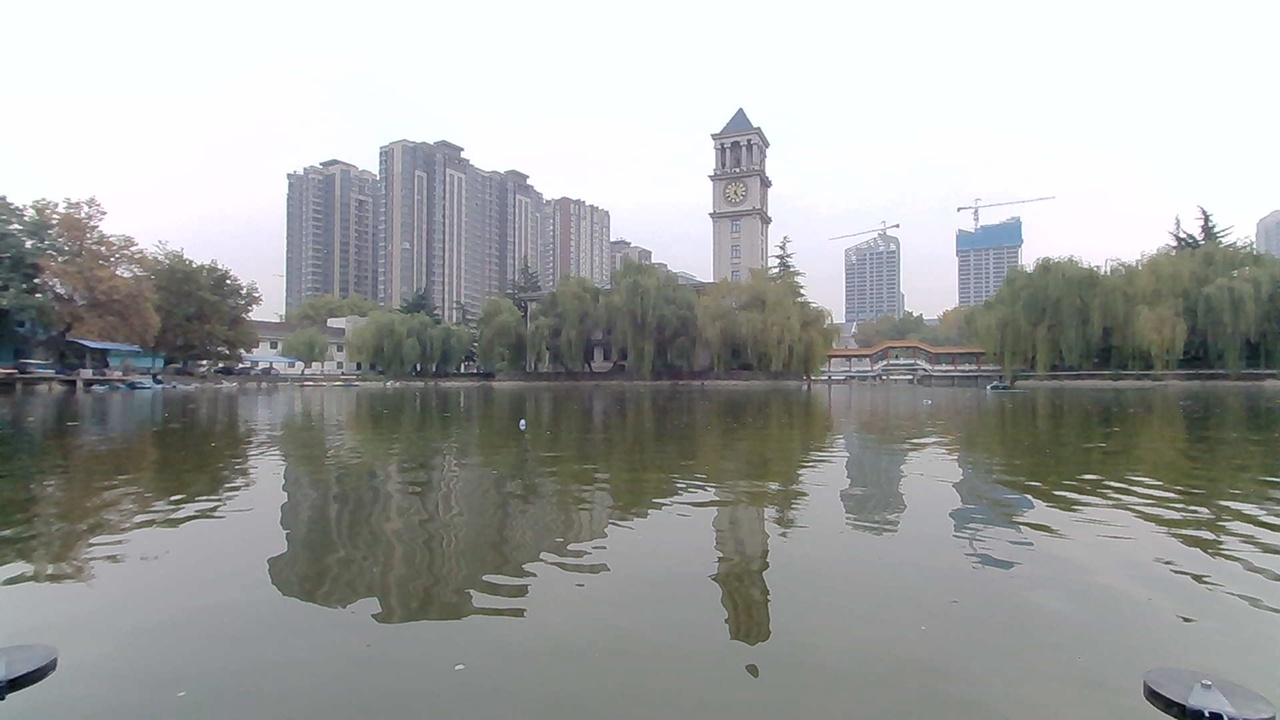bottle: (492, 406, 544, 438), (910, 391, 942, 410)
